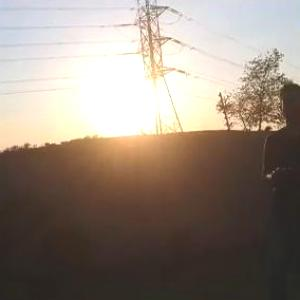follow: (257, 79, 300, 299)
